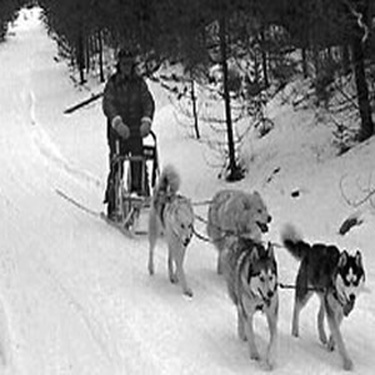dog: (262, 223, 369, 373), (197, 230, 284, 373), (129, 151, 200, 307), (188, 178, 276, 266)
